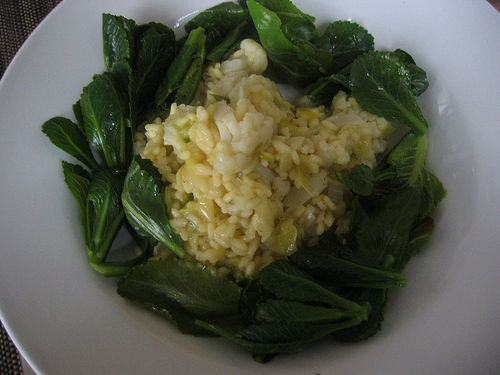cauliflower: (209, 98, 274, 175)
